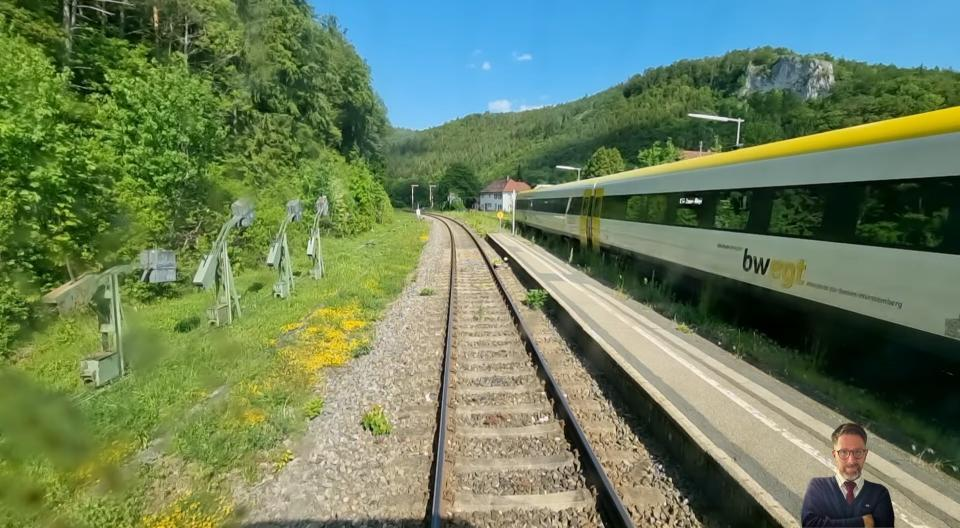Plant: (362, 405, 392, 435), (525, 288, 550, 308), (419, 287, 435, 296)
